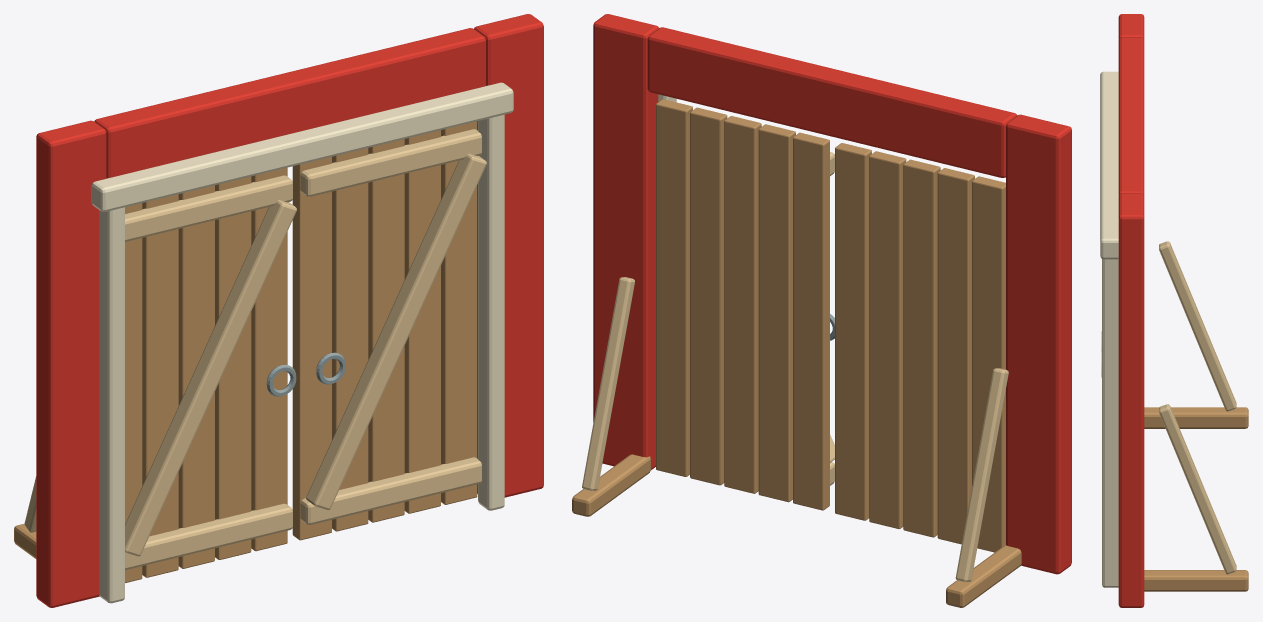
Rendered from S004_barn_double_door.glb.
3 renders of one model, left to right at view 1: azimuth 30°, elevation 25°; view 2: azimuth 150°, elevation 25°; view 3: azimuth 270°, elevation 25°, orthographic. The views are drawn at different scales.
Parts seen in each view (by area): view 1: wall_side, wall_lintel, wall_side.001, door_lintel, barn_plank.005, barn_diagonal.001, barn_diagonal, door_jamb.001, door_jamb, barn_plank.009, barn_plank.004, barn_plank.001 (+10 smaller); view 2: wall_side, wall_lintel, wall_side.001, barn_plank.005, barn_plank.006, barn_plank.008, barn_plank.002, barn_plank.007, barn_plank.003, barn_plank.004, barn_plank.001, barn_plank.009 (+5 smaller); view 3: wall_side.001, door_jamb.001, wall_lintel, door_lintel, rear_triangular_brace, rear_triangular_brace.001, rear_plywood_foot.001, rear_plywood_foot, wall_side.
Boxes of the visible parts, box(x1,y1,x2,y2) form: wall_side: box(36, 120, 106, 607); wall_lintel: box(94, 28, 485, 178); wall_side.001: box(474, 14, 543, 497); door_lintel: box(91, 82, 513, 211); barn_plank.005: box(292, 157, 331, 540); barn_diagonal.001: box(306, 153, 486, 510); barn_diagonal: box(125, 200, 296, 556); door_jamb.001: box(478, 114, 504, 510); door_jamb: box(99, 207, 124, 603); barn_plank.009: box(441, 121, 477, 504); barn_plank.004: box(251, 167, 287, 551); barn_plank.001: box(142, 194, 178, 577); wall_side: box(1006, 114, 1071, 574); wall_lintel: box(647, 27, 1016, 177); wall_side.001: box(593, 14, 658, 470); barn_plank.005: box(793, 132, 829, 510); barn_plank.006: box(758, 124, 795, 502); barn_plank.008: box(690, 107, 727, 485); barn_plank.002: box(903, 159, 940, 537); barn_plank.007: box(724, 116, 761, 493); barn_plank.003: box(869, 151, 906, 528); barn_plank.004: box(835, 143, 871, 520); barn_plank.001: box(937, 168, 974, 544); barn_plank.009: box(656, 99, 692, 476); wall_side.001: box(1118, 193, 1144, 607); door_jamb.001: box(1102, 259, 1118, 587); wall_lintel: box(1118, 37, 1144, 196); door_lintel: box(1100, 71, 1118, 259); rear_triangular_brace: box(1159, 241, 1236, 411); rear_triangular_brace.001: box(1159, 404, 1236, 574); rear_plywood_foot.001: box(1144, 570, 1248, 591); rear_plywood_foot: box(1144, 407, 1248, 428); wall_side: box(1118, 14, 1144, 39).
Size of the model in its own units: 3 by 2.7 by 0.925.
